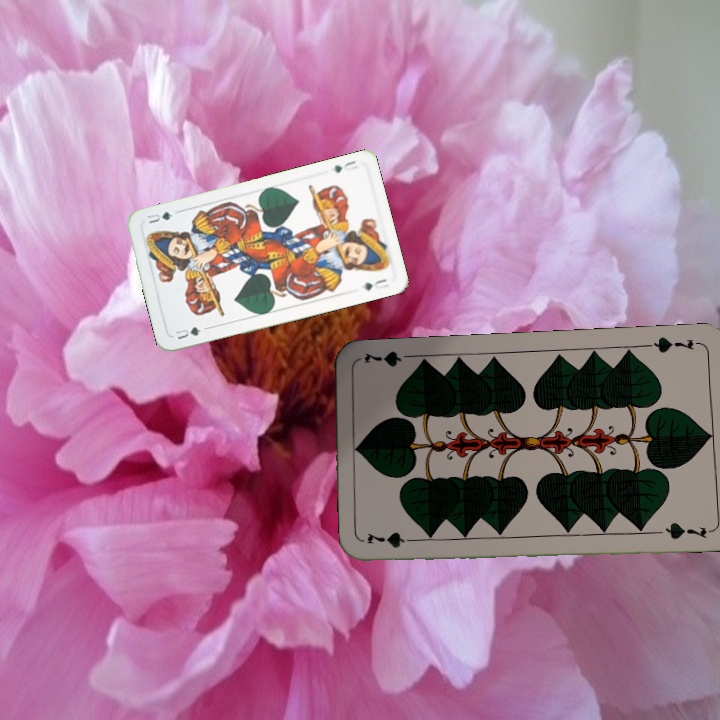G7: (645, 333, 704, 355), (364, 531, 423, 550)
GU: (172, 322, 204, 342), (329, 157, 360, 175)
